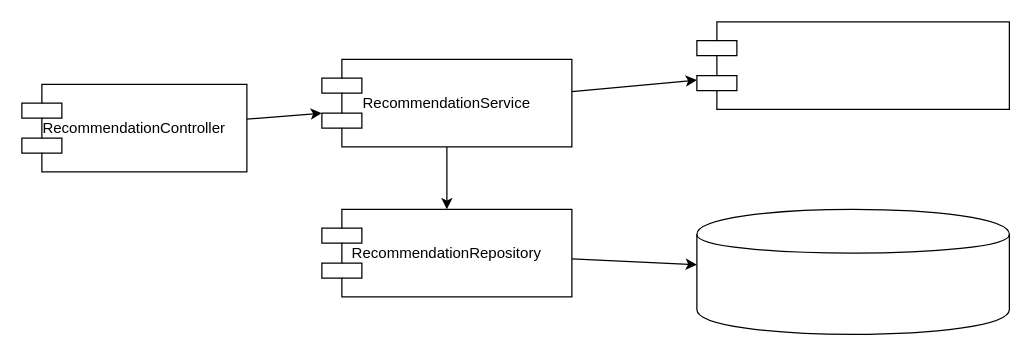
The diagram is 1031 pixels wide and 356 high, and some of its shapes have lost their labels. Here are the shapes that lost their labels. From the top down, the centre of each, then its label:
At point (852, 65): "RuleSet (Invest500, Credit, Saving)".
At point (852, 271): "Database (TRANSACTIONS, PRODUCTS)".
